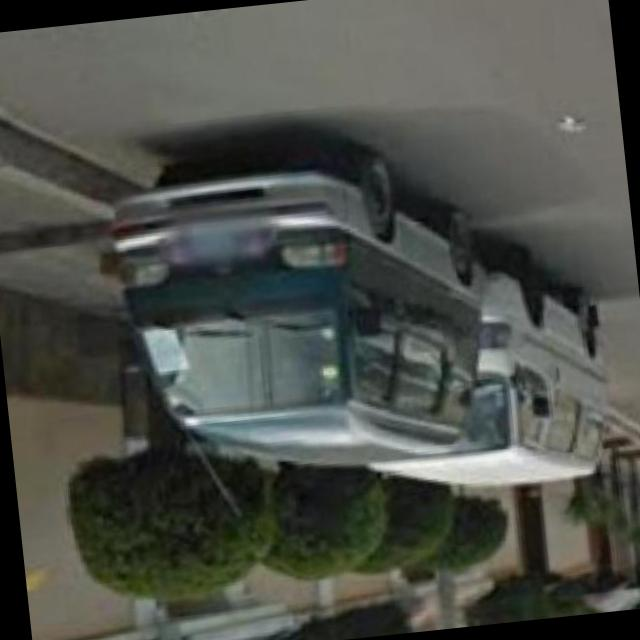car: (119, 133, 496, 453), (434, 264, 624, 496)
